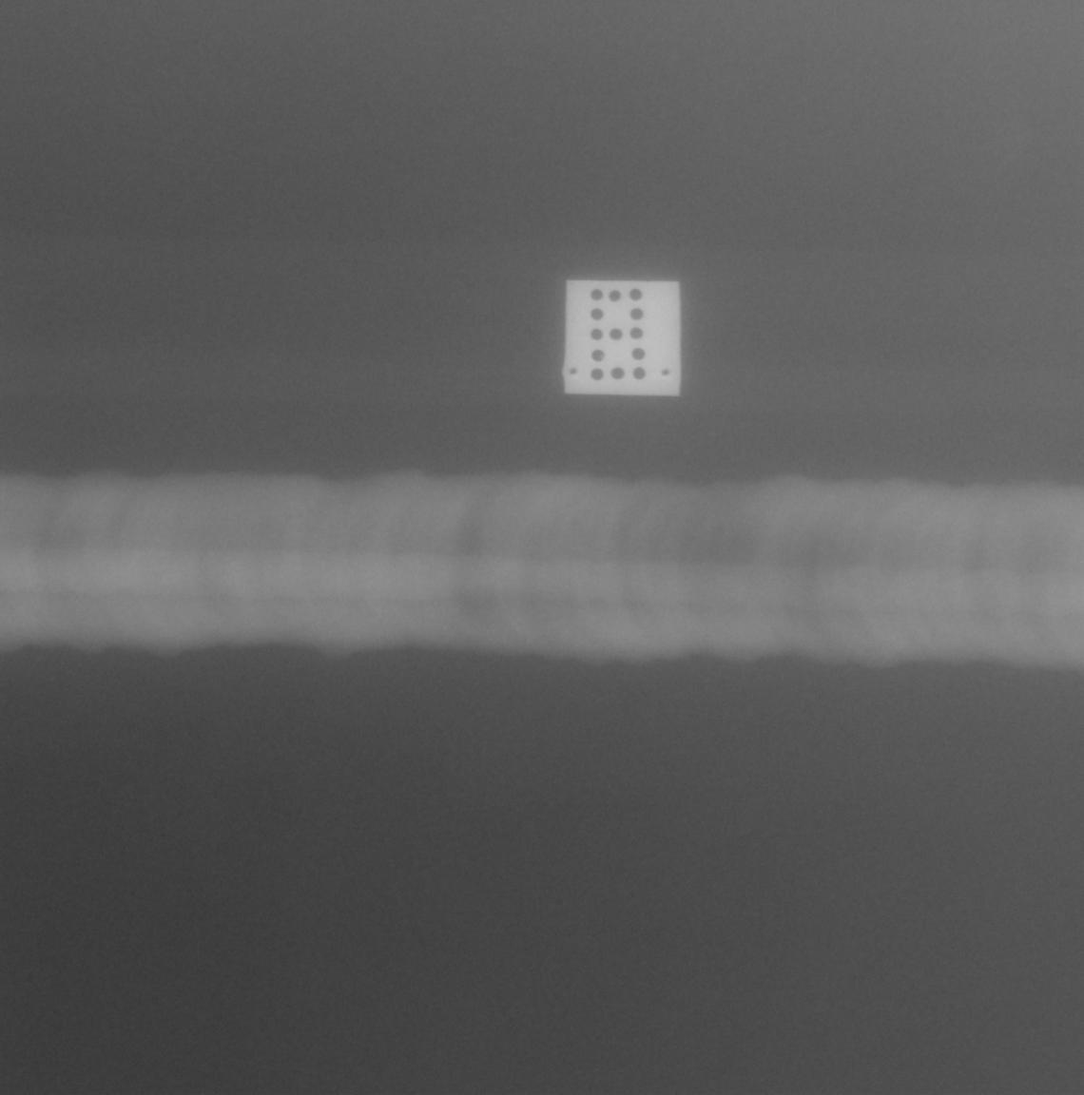Pore/Porosity: (575, 523, 578, 526)
